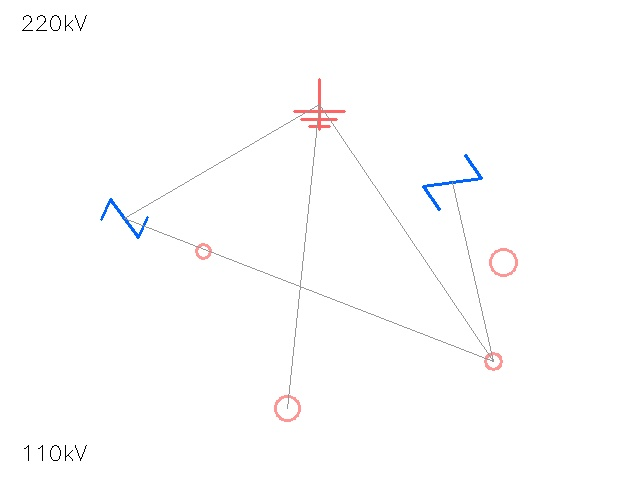circuit_breaker: (423, 153, 481, 211), (101, 195, 147, 241)
ground: (294, 79, 344, 129)
load_break_switch: (188, 236, 218, 266)
reactor: (476, 235, 530, 289), (262, 383, 312, 433)
surge_arrester: (476, 344, 510, 378)
